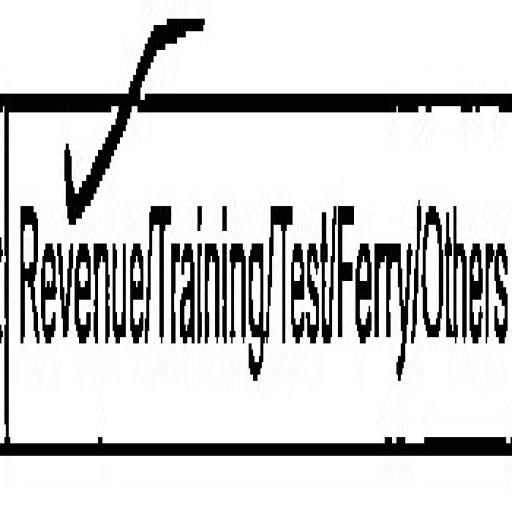check: (2, 0, 150, 487)
